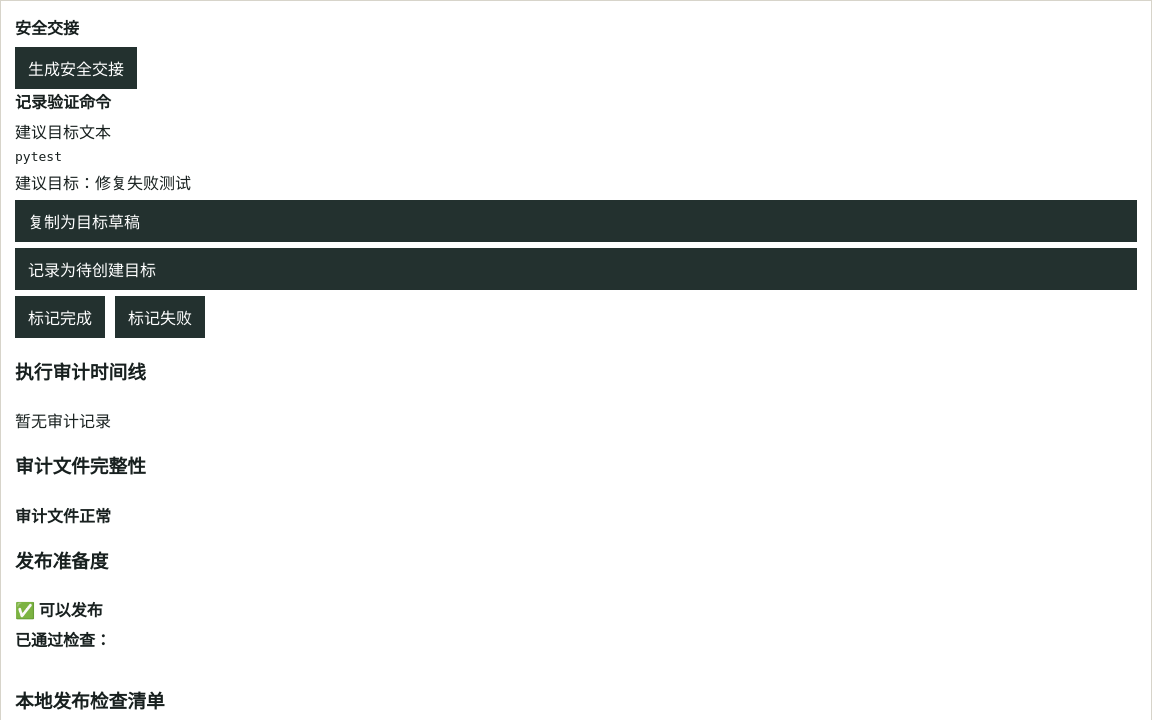
it: ExecutionHandoffPanel › goal_input 显示建议目标但不自动创建目标或运行 loop
Expected: the text "建议目标：修复失败测试" is shown, [15,173,191,193]
Expected: the button "记录为待创建目标" is shown, [15,248,1137,290]
Click the button "复制为目标草稿". click: (84, 222)
box: [15,200,1137,242]
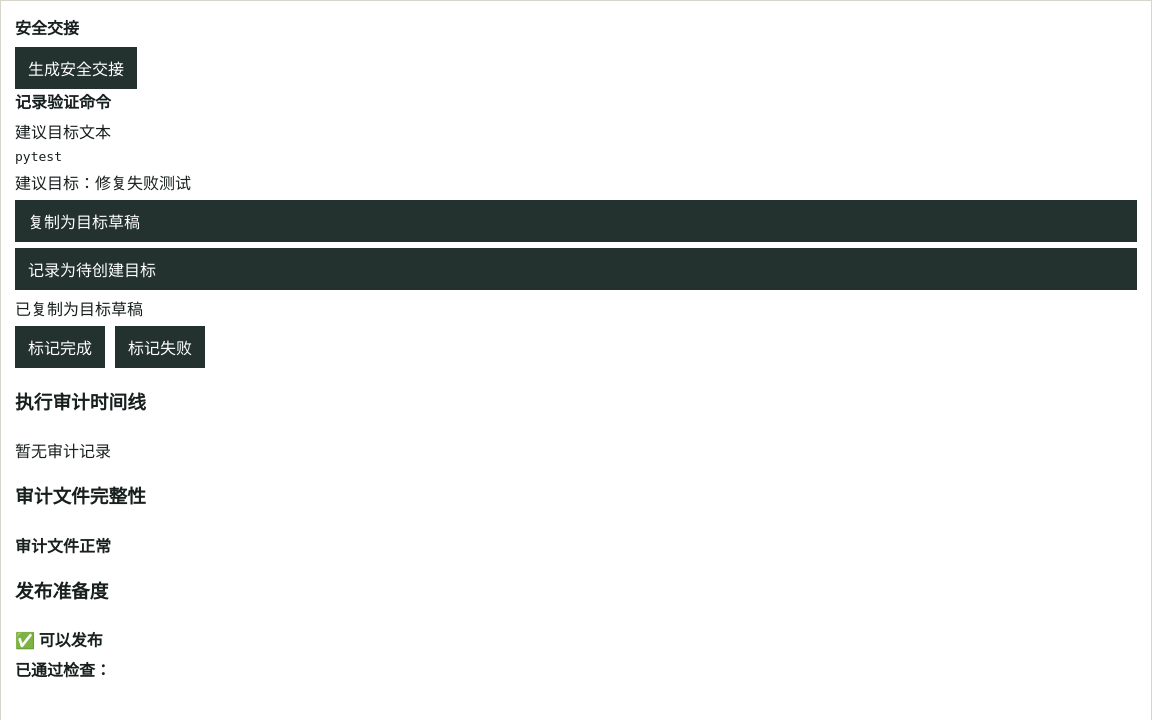
Expected: the text "已复制为目标草稿" is shown, [15,299,143,319]
Click the button "记录为待创建目标". click: (92, 270)
box: [15,248,1137,290]
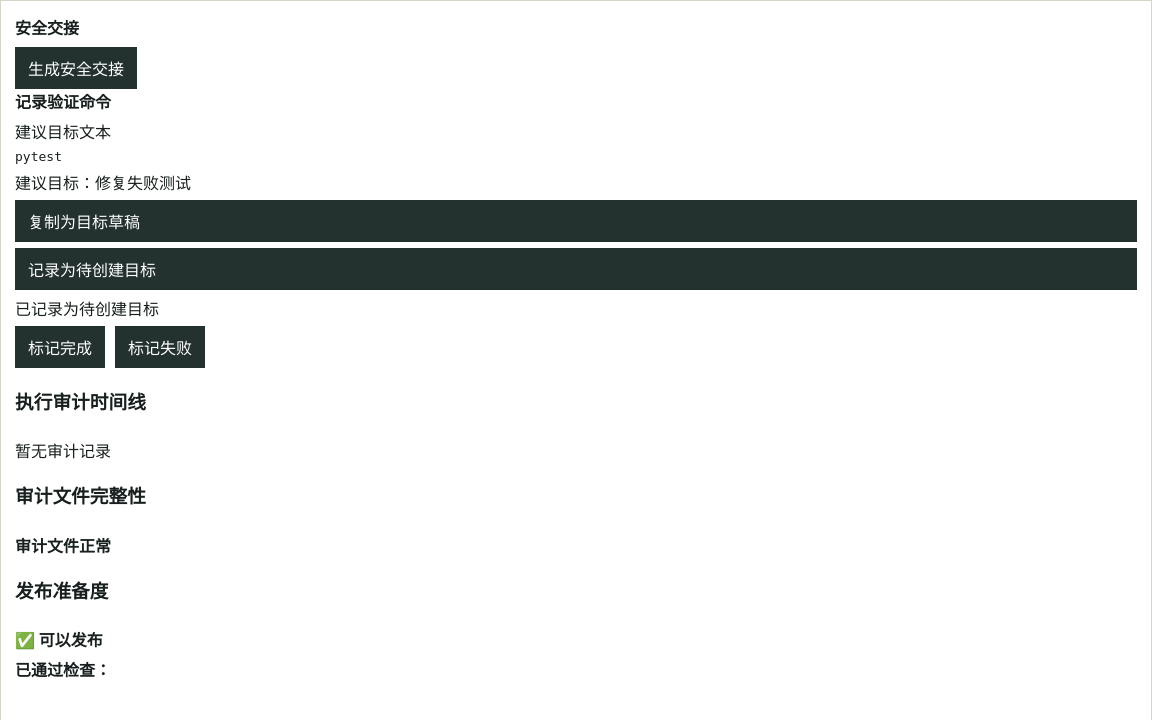
Expected: the text "已记录为待创建目标" is shown, [15,299,159,319]
